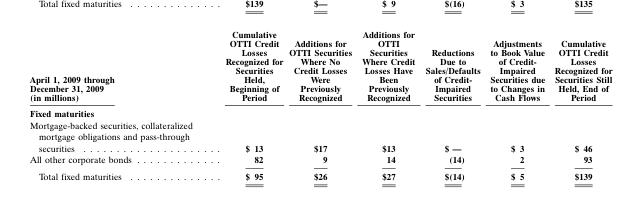table: (29, 28, 611, 181)
table column: (29, 28, 208, 181), (208, 28, 285, 181), (285, 28, 356, 181), (419, 28, 484, 181), (484, 28, 549, 181), (356, 28, 419, 181), (549, 28, 611, 181)
table column header: (29, 28, 611, 104)
table projected row header: (29, 104, 611, 118)
table row: (29, 28, 611, 104), (29, 118, 611, 153), (29, 104, 611, 118), (29, 153, 611, 167), (29, 167, 611, 181)
